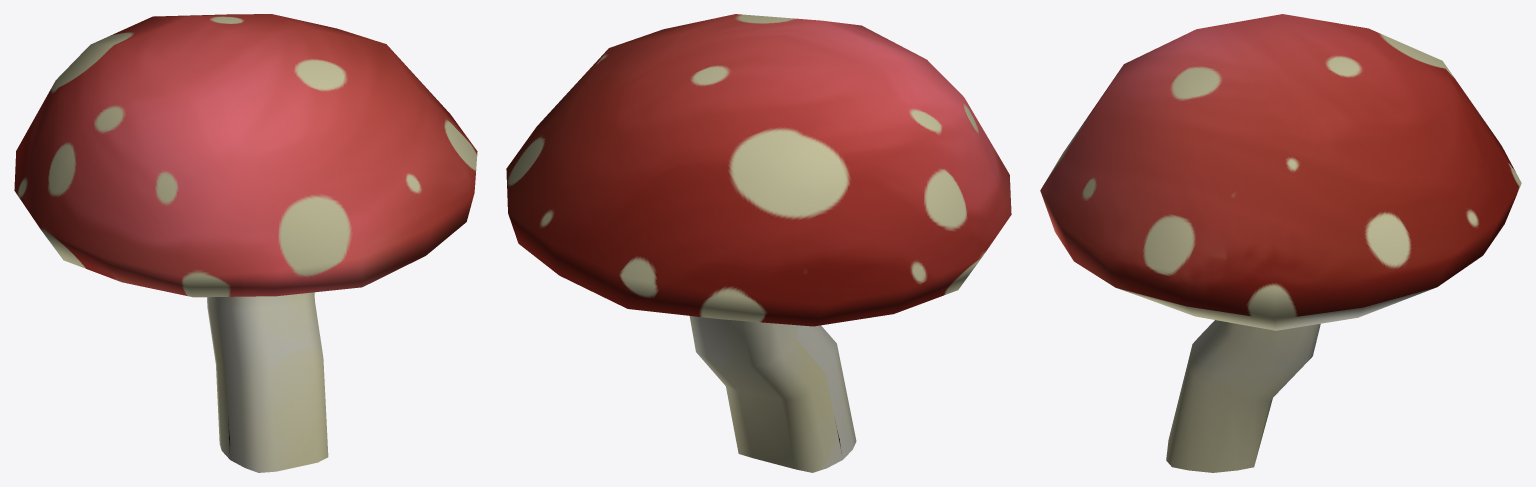
The model's file is MushroomBall3_Deco.fbx.
The picture shows the model from 3 angles, left to right: view 1: azimuth 30°, elevation 25°; view 2: azimuth 150°, elevation 25°; view 3: azimuth 270°, elevation 25°; orthographic projection. The views are drawn at different scales.
Visible parts, largest first — view 1: MushroomBall3; view 2: MushroomBall3; view 3: MushroomBall3.
Boxes of the visible parts, x1,y1,x2,y2 form: MushroomBall3: (14,14,477,472); MushroomBall3: (506,14,1011,472); MushroomBall3: (1040,14,1521,472).
Bounding box in the file's own units: 13.11 × 12.14 × 13.05.
